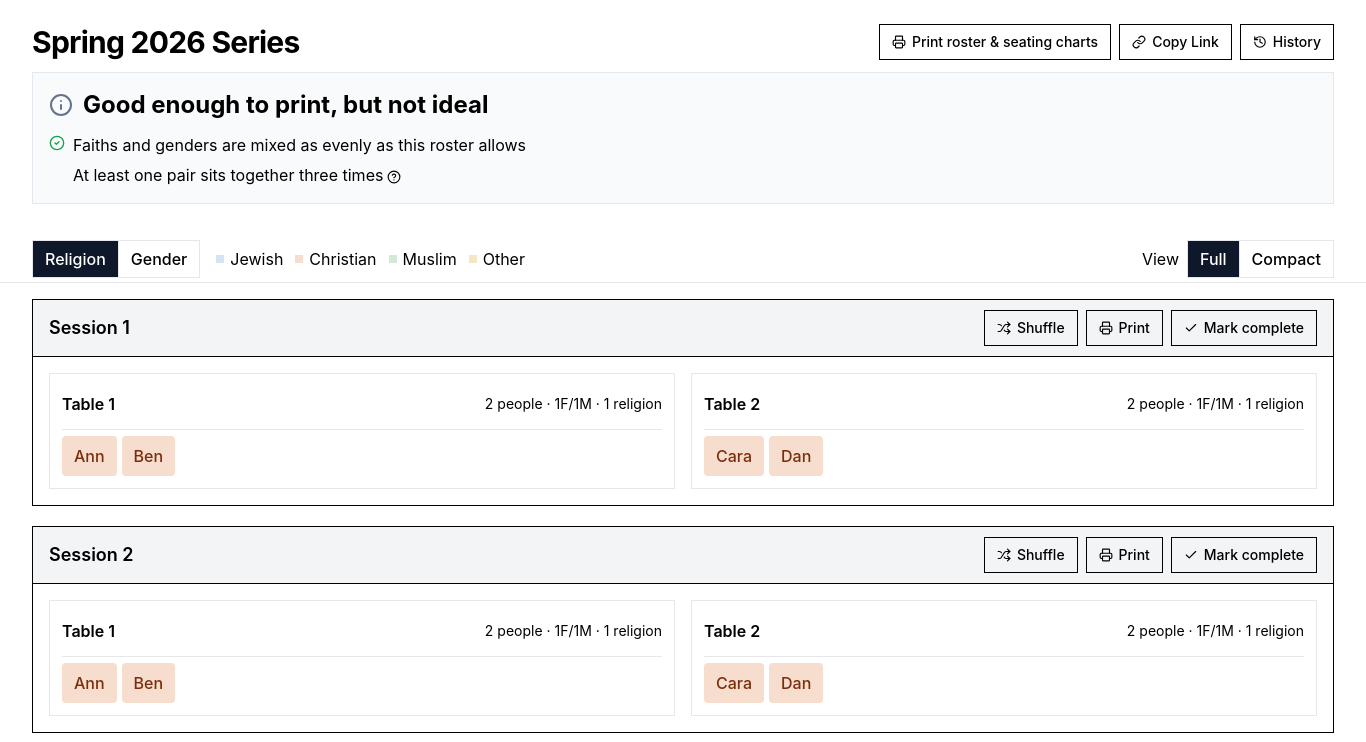
Test: AssignmentsPage › says so when a shuffle finds no new seating, with no Undo
Click the 2nd button "Shuffle". click: (1031, 555)
box: [984,537,1078,573]
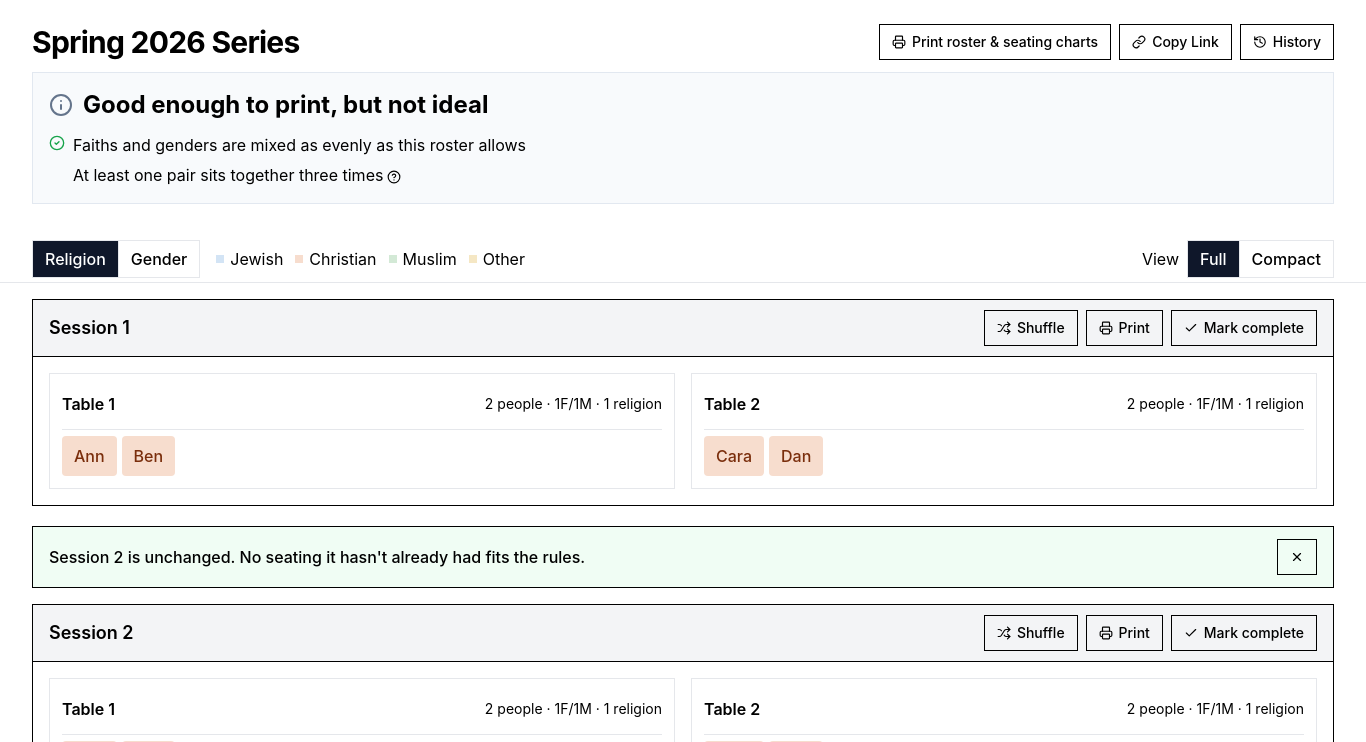
Expected: the text "Session 2 is unchanged. No seating it hasn't already had fits the rules." is shown, [49,545,585,569]
